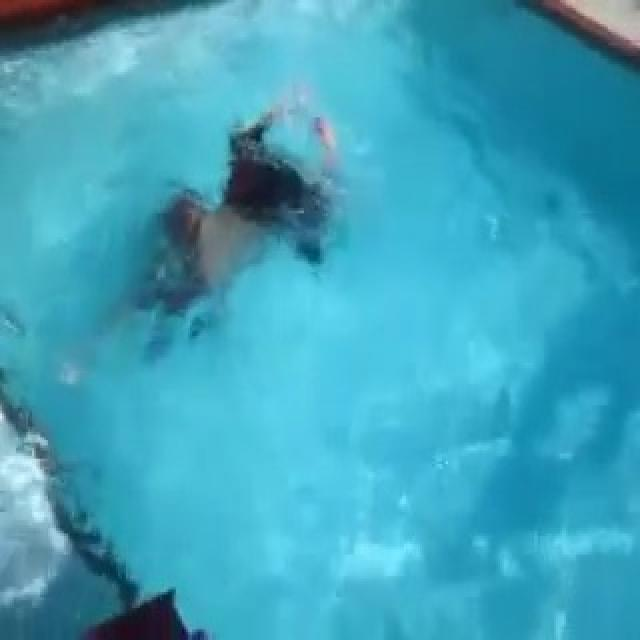drowning: (126, 91, 348, 364)
